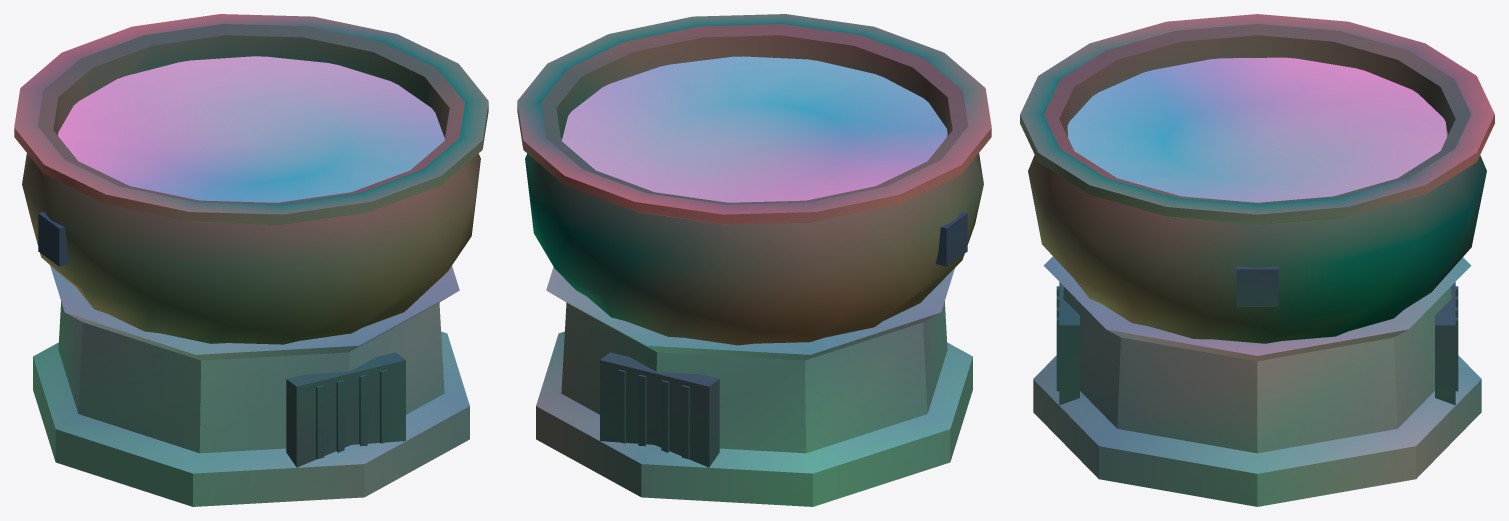
Rendered from tallow_vat_cold.glb.
3 renders of one model, left to right at view 1: azimuth 30°, elevation 25°; view 2: azimuth 150°, elevation 25°; view 3: azimuth 270°, elevation 25°, orthographic.
Parts seen in each view (by area): view 1: vat_kettle, vat_furnace, vat_wax_pool, vat_rim_brass, vat_iron; view 2: vat_kettle, vat_furnace, vat_wax_pool, vat_rim_brass, vat_iron; view 3: vat_kettle, vat_furnace, vat_wax_pool, vat_rim_brass, vat_iron.
Boxes of the visible parts, box(x1,y1,x2,y2) form: vat_kettle: box(22, 24, 480, 344); vat_furnace: box(33, 265, 469, 506); vat_wax_pool: box(58, 56, 444, 202); vat_rim_brass: box(14, 14, 488, 224); vat_iron: box(38, 212, 405, 467); vat_kettle: box(525, 24, 983, 345); vat_furnace: box(536, 267, 972, 506); vat_wax_pool: box(561, 56, 947, 202); vat_rim_brass: box(517, 14, 991, 224); vat_iron: box(600, 212, 967, 467); vat_kettle: box(1028, 24, 1486, 343); vat_furnace: box(1033, 256, 1481, 506); vat_wax_pool: box(1067, 57, 1447, 202); vat_rim_brass: box(1020, 14, 1494, 224); vat_iron: box(1056, 266, 1458, 405).
Size of the model in its own units: 1.82 by 1.26 by 1.82.
